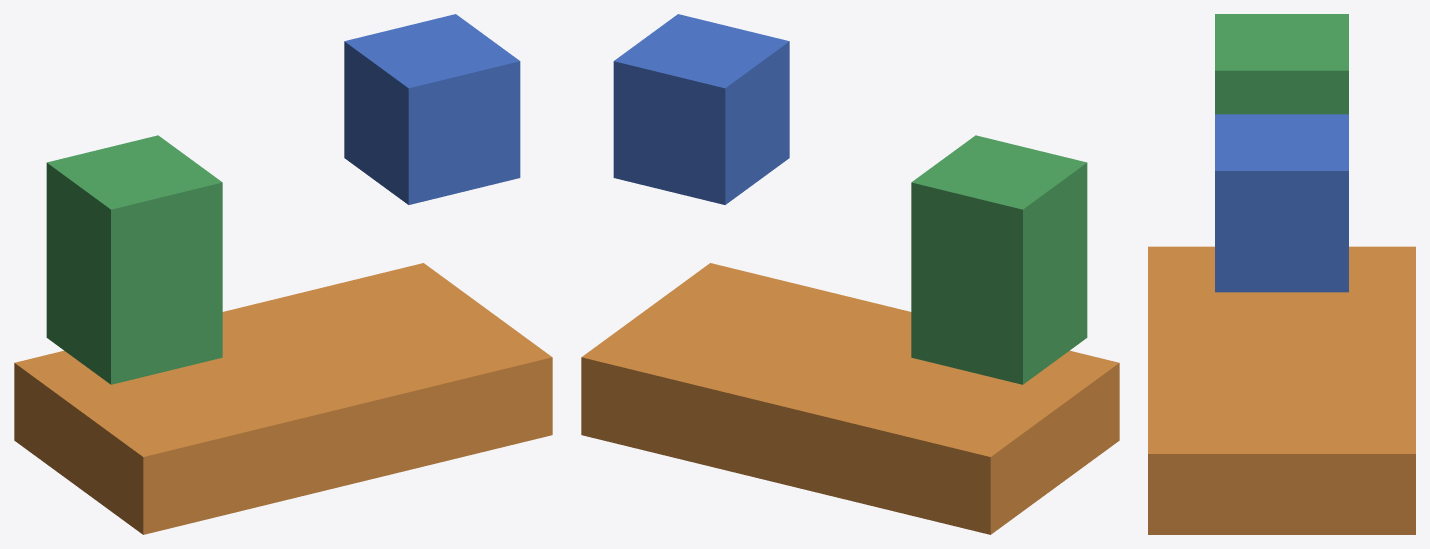
The picture shows the model from 3 angles, left to right: view 1: azimuth 30°, elevation 25°; view 2: azimuth 150°, elevation 25°; view 3: azimuth 270°, elevation 25°; orthographic projection. The views are drawn at different scales.
Parts seen in each view (by area): view 1: Base, ChildLeft, ChildRight; view 2: Base, ChildLeft, ChildRight; view 3: Base, ChildRight, ChildLeft.
Part boxes in pixels (x1,y1,x2,y2): Base: (14, 263, 552, 534); ChildLeft: (46, 135, 222, 384); ChildRight: (344, 14, 520, 204); Base: (581, 263, 1119, 534); ChildLeft: (911, 135, 1087, 384); ChildRight: (613, 14, 789, 204); Base: (1148, 246, 1415, 534); ChildRight: (1215, 114, 1348, 292); ChildLeft: (1215, 14, 1348, 114).
Size of the model in its own units: 2.2 by 1.8 by 1.2.
3 materials, 3 textured.
